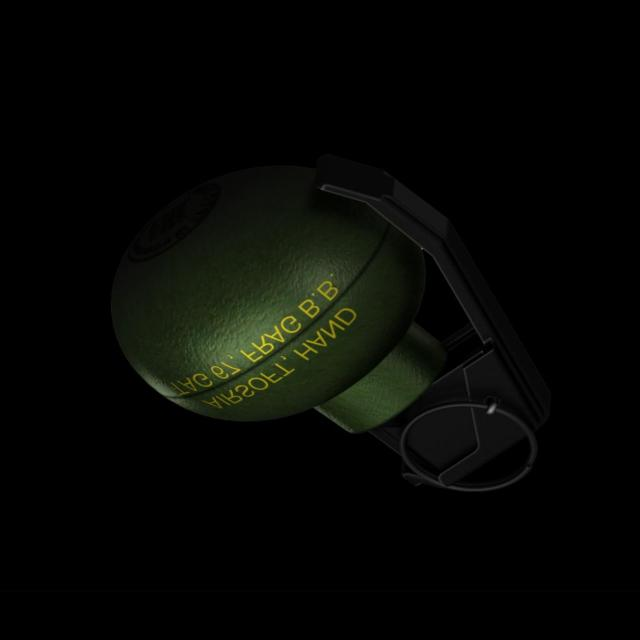grenade: (110, 151, 550, 490)
